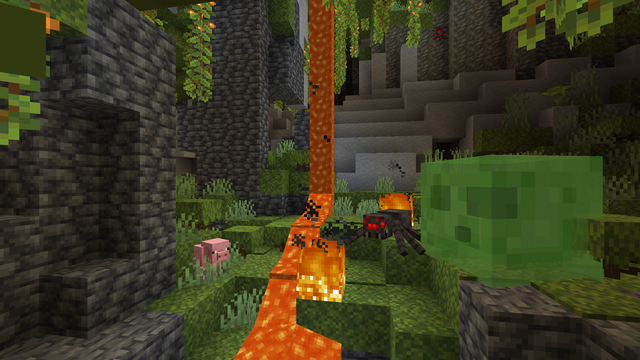araignees: (356, 205, 422, 254)
cochons: (191, 237, 225, 280)
slimes: (426, 148, 609, 284)
